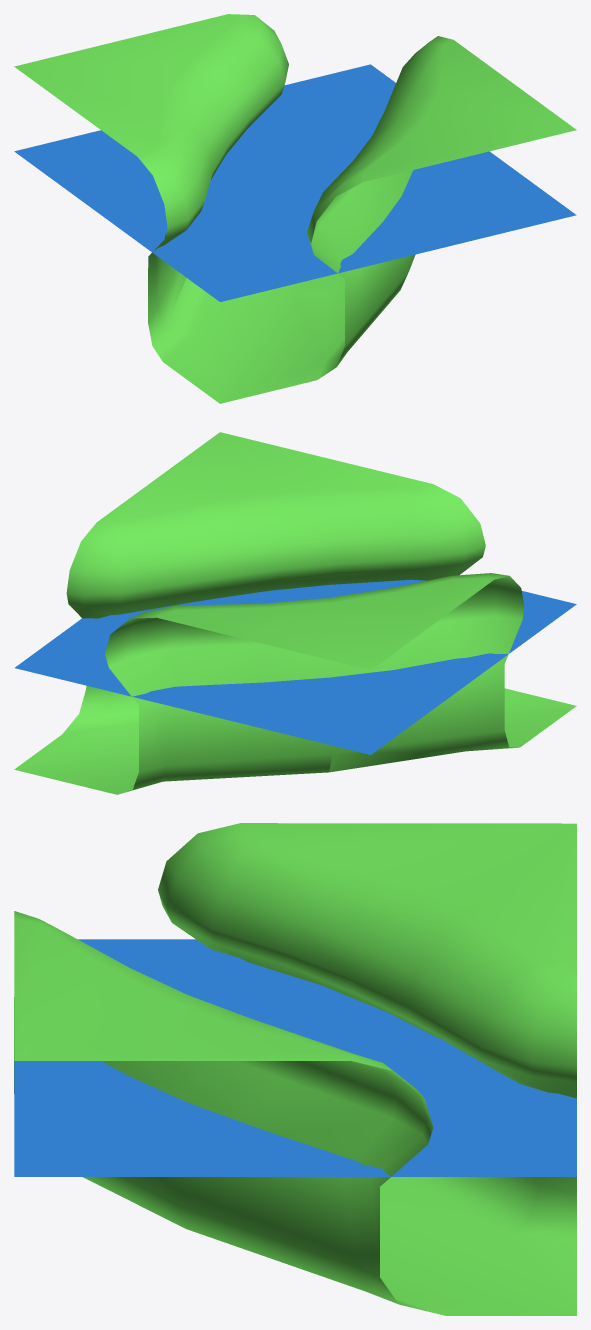
Rendered from River_MergedCorner_Mesh.fbx.
3 renders of one model, top to bottom at view 1: azimuth 30°, elevation 25°; view 2: azimuth 150°, elevation 25°; view 3: azimuth 270°, elevation 25°, orthographic. The views are drawn at different scales.
Parts seen in each view (by area): view 1: River_MergedCorner; view 2: River_MergedCorner; view 3: River_MergedCorner.
Part boxes in pixels (x1,y1,x2,y2): River_MergedCorner: (14, 14, 576, 403); River_MergedCorner: (14, 432, 576, 794); River_MergedCorner: (14, 823, 576, 1315).
Bounding box in the file's own units: 200 × 200 × 100.
